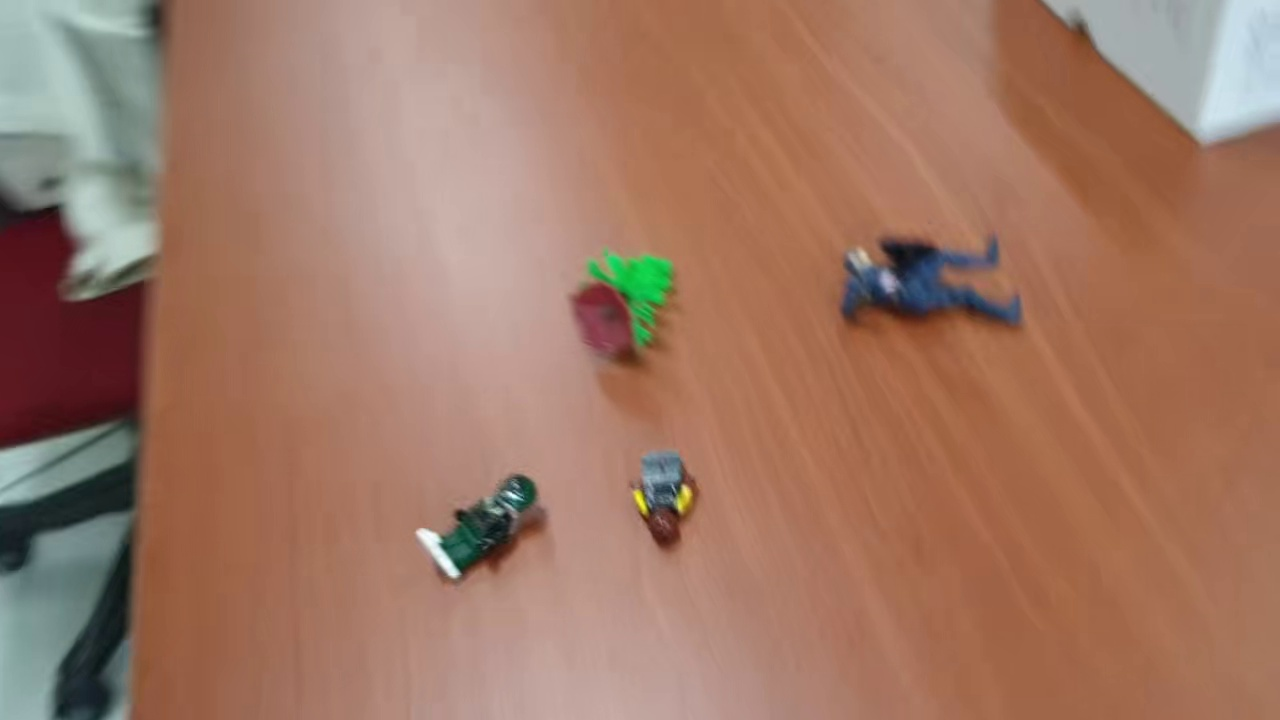people: (832, 231, 1023, 331), (414, 472, 541, 585), (624, 445, 698, 551)
tree: (567, 249, 678, 368)
